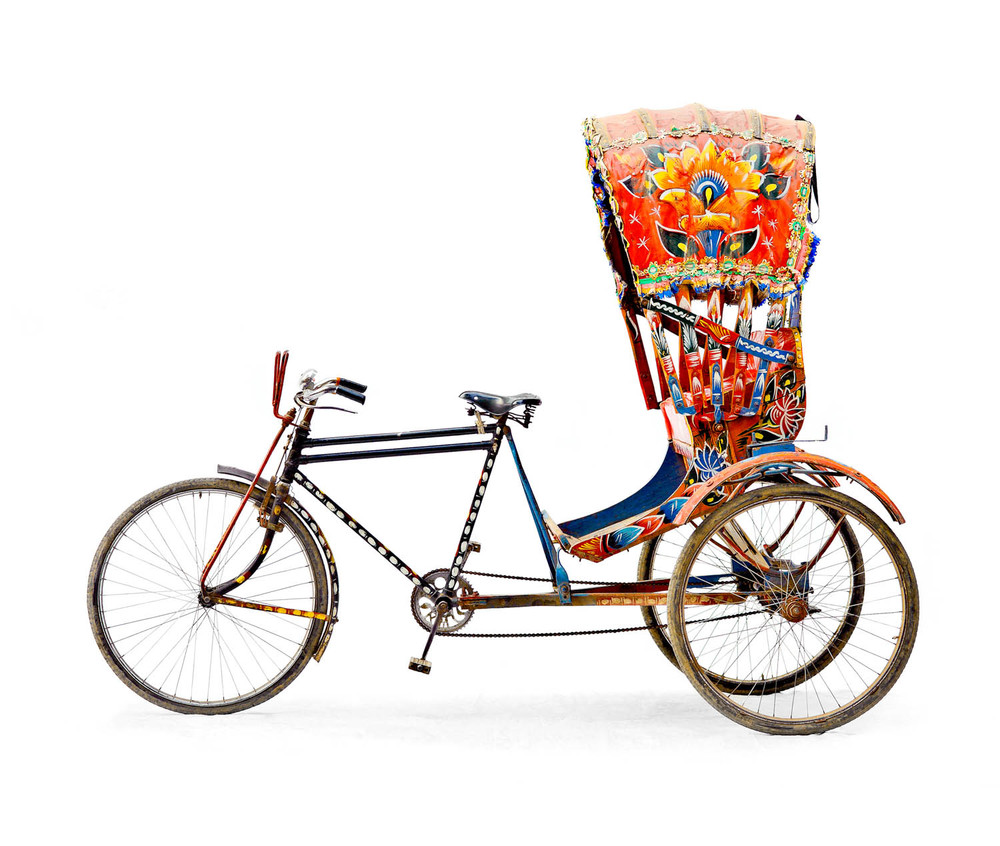Rickshaw: (103, 137, 932, 759)
